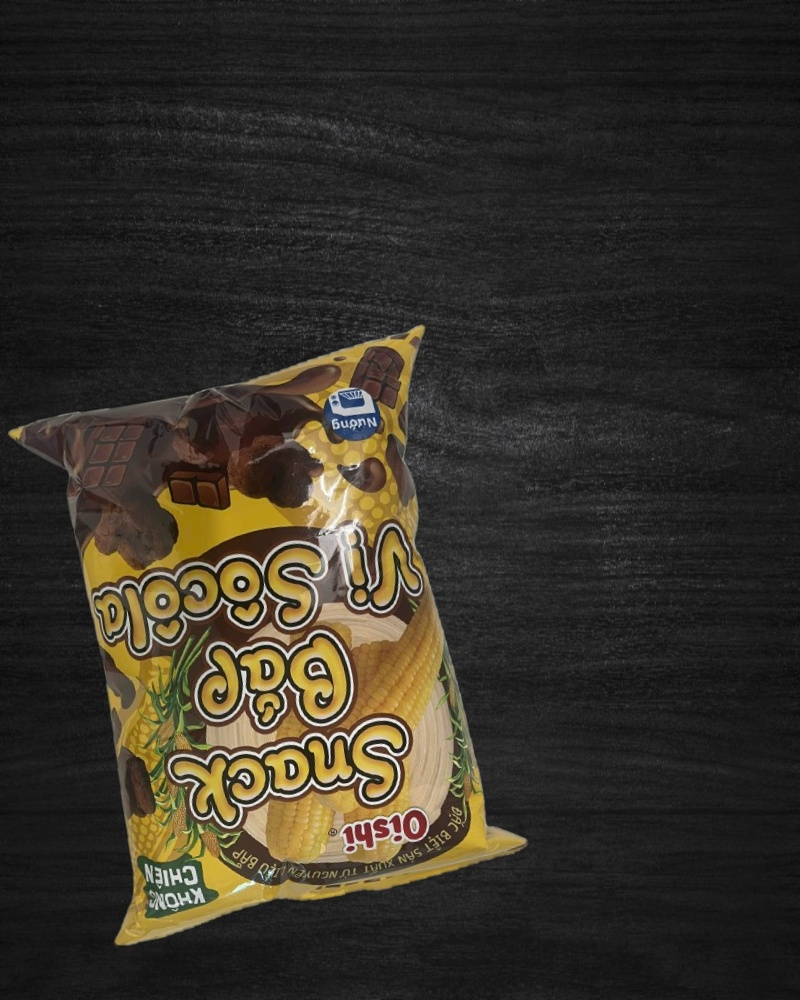Snack socola: (4, 325, 534, 949)
